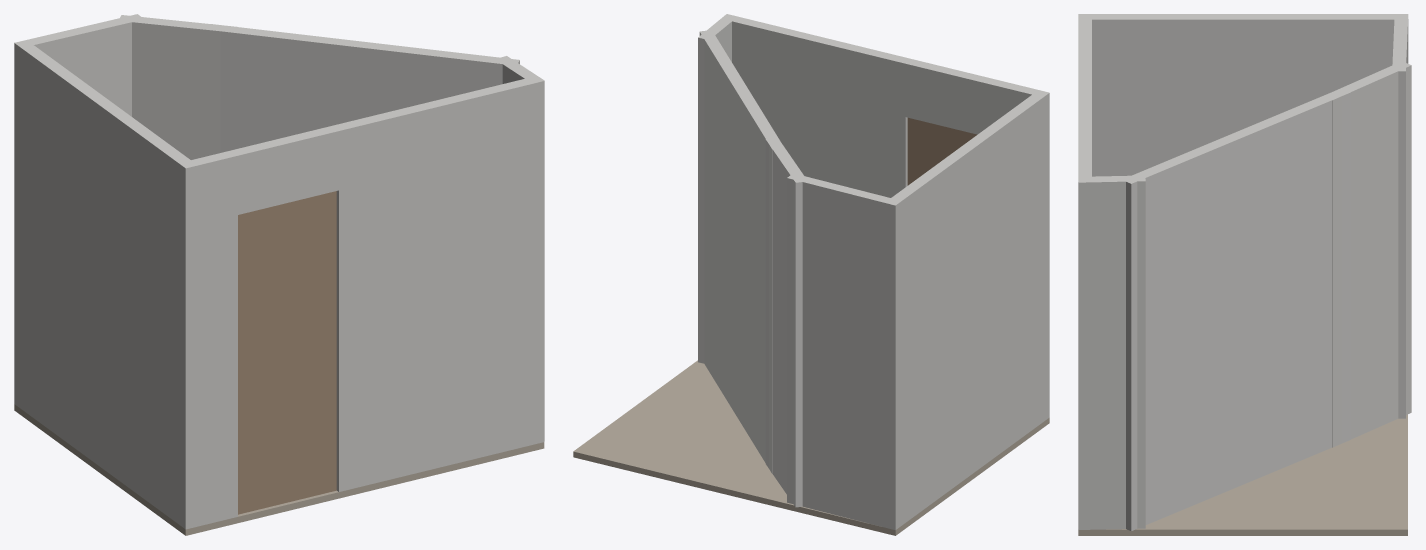
The model's file is room_070.glb.
3 views of the same model, side by side, from view 1: azimuth 30°, elevation 25°; view 2: azimuth 150°, elevation 25°; view 3: azimuth 270°, elevation 25° (orthographic). The views are drawn at different scales.
Visible parts, largest first — view 1: shell_wall_5_s2, shell_wall_4_s0, shell_wall_5_door, shell_wall_1_s0, shell_wall_5_s0, shell_wall_2_s0, shell_wall_5_s1, shell_wall_3_s0, shell_floor, shell_wall_0_s0; view 2: shell_wall_4_s0, shell_wall_3_s0, shell_wall_1_s0, shell_wall_5_s2, shell_floor, shell_wall_2_s0, shell_wall_5_s1, shell_wall_0_s0, shell_wall_5_s0, shell_wall_5_door; view 3: shell_wall_1_s0, shell_wall_4_s0, shell_wall_2_s0, shell_wall_0_s0, shell_floor, shell_wall_3_s0, shell_wall_5_s2, shell_wall_5_s1.
Part boxes in pixels (x1=…): shell_wall_5_s2: x1=332, y1=76, x2=544, y2=491; shell_wall_4_s0: x1=14, y1=43, x2=197, y2=529; shell_wall_5_door: x1=238, y1=191, x2=336, y2=514; shell_wall_1_s0: x1=207, y1=24, x2=519, y2=152; shell_wall_5_s0: x1=178, y1=150, x2=237, y2=528; shell_wall_2_s0: x1=119, y1=15, x2=236, y2=159; shell_wall_5_s1: x1=231, y1=126, x2=338, y2=214; shell_wall_3_s0: x1=14, y1=14, x2=143, y2=116; shell_floor: x1=14, y1=404, x2=544, y2=535; shell_wall_0_s0: x1=495, y1=56, x2=544, y2=441; shell_wall_4_s0: x1=888, y1=91, x2=1049, y2=529; shell_wall_3_s0: x1=787, y1=173, x2=901, y2=529; shell_wall_1_s0: x1=699, y1=30, x2=784, y2=473; shell_wall_5_s2: x1=725, y1=14, x2=911, y2=197; shell_floor: x1=573, y1=360, x2=1049, y2=535; shell_wall_2_s0: x1=765, y1=138, x2=807, y2=507; shell_wall_5_s1: x1=905, y1=59, x2=1002, y2=134; shell_wall_0_s0: x1=698, y1=14, x2=736, y2=363; shell_wall_5_s0: x1=996, y1=81, x2=1049, y2=421; shell_wall_5_door: x1=907, y1=117, x2=976, y2=185; shell_wall_1_s0: x1=1122, y1=88, x2=1350, y2=531; shell_wall_4_s0: x1=1078, y1=14, x2=1407, y2=176; shell_wall_2_s0: x1=1323, y1=61, x2=1411, y2=447; shell_wall_0_s0: x1=1078, y1=175, x2=1145, y2=529; shell_floor: x1=1078, y1=414, x2=1407, y2=535; shell_wall_3_s0: x1=1392, y1=14, x2=1408, y2=418; shell_wall_5_s2: x1=1078, y1=86, x2=1091, y2=529; shell_wall_5_s1: x1=1078, y1=38, x2=1091, y2=85.
Size of the model in its own units: 2.94 by 2.85 by 2.44.
